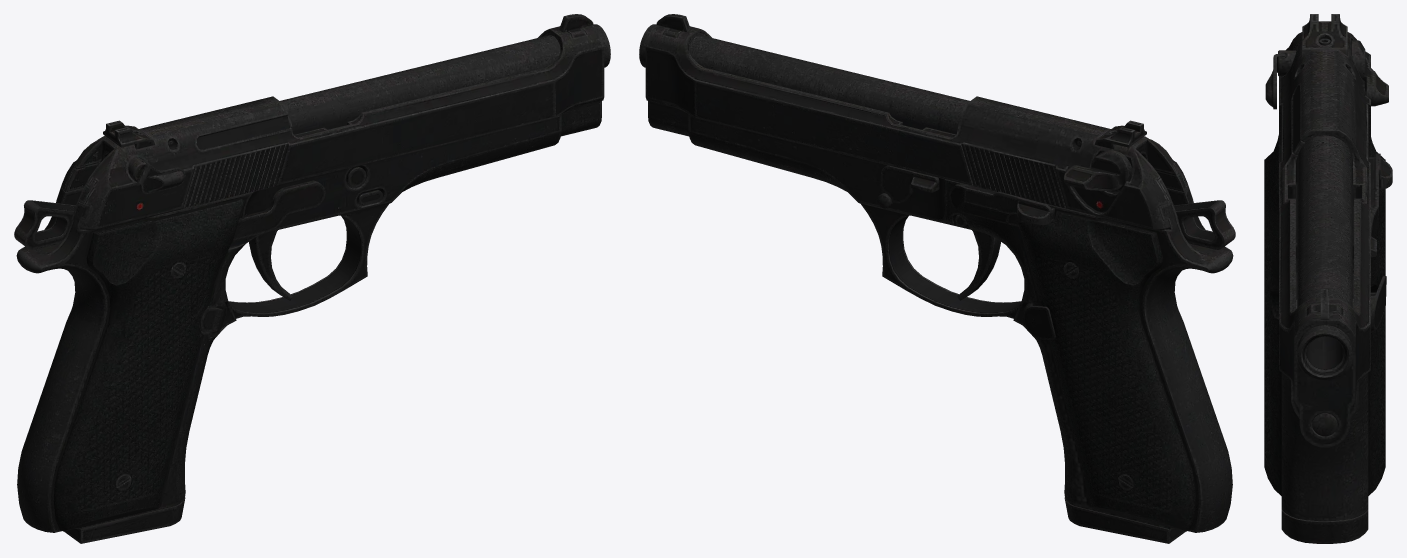
3 views of the same model, side by side, from view 1: azimuth 30°, elevation 25°; view 2: azimuth 150°, elevation 25°; view 3: azimuth 270°, elevation 25° (orthographic). The views are drawn at different scales.
Visible parts, largest first — view 1: base, slide, hammer, mag, trigger; view 2: base, slide, stopper, hammer, mag, trigger; view 3: base, slide, mag, stopper.
Part boxes in pixels (box(x1,y1,x2,y2)): base: box(16, 24, 610, 532); slide: box(56, 14, 604, 230); hammer: box(14, 200, 75, 249); mag: box(64, 497, 185, 543); trigger: box(249, 230, 292, 300); base: box(639, 24, 1233, 532); slide: box(645, 14, 1193, 230); stopper: box(949, 183, 1054, 226); hammer: box(1174, 200, 1235, 249); mag: box(1064, 497, 1185, 543); trigger: box(957, 230, 1000, 300); base: box(1264, 135, 1386, 521); slide: box(1265, 14, 1388, 447); mag: box(1281, 509, 1368, 543); stopper: box(1368, 153, 1392, 238).
Size of the model in its own units: 0.2488 by 0.162 by 0.0383.
Materials: 1 (1 with a texture image).
